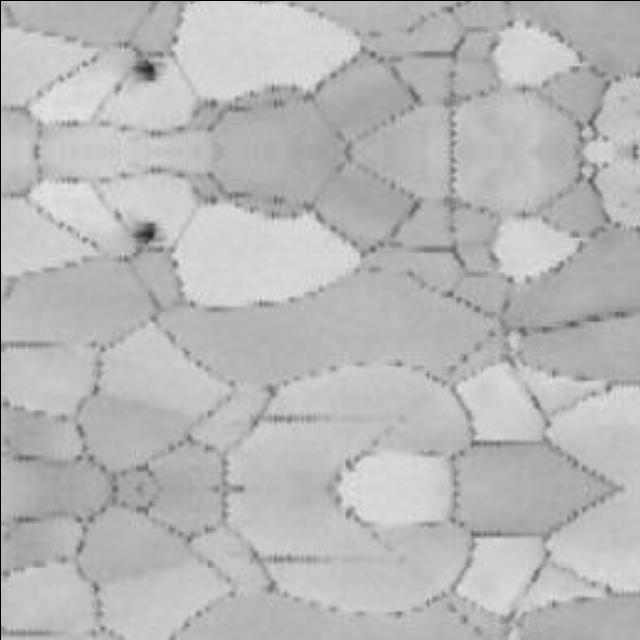good_void: (128, 53, 161, 86), (128, 218, 161, 250)
